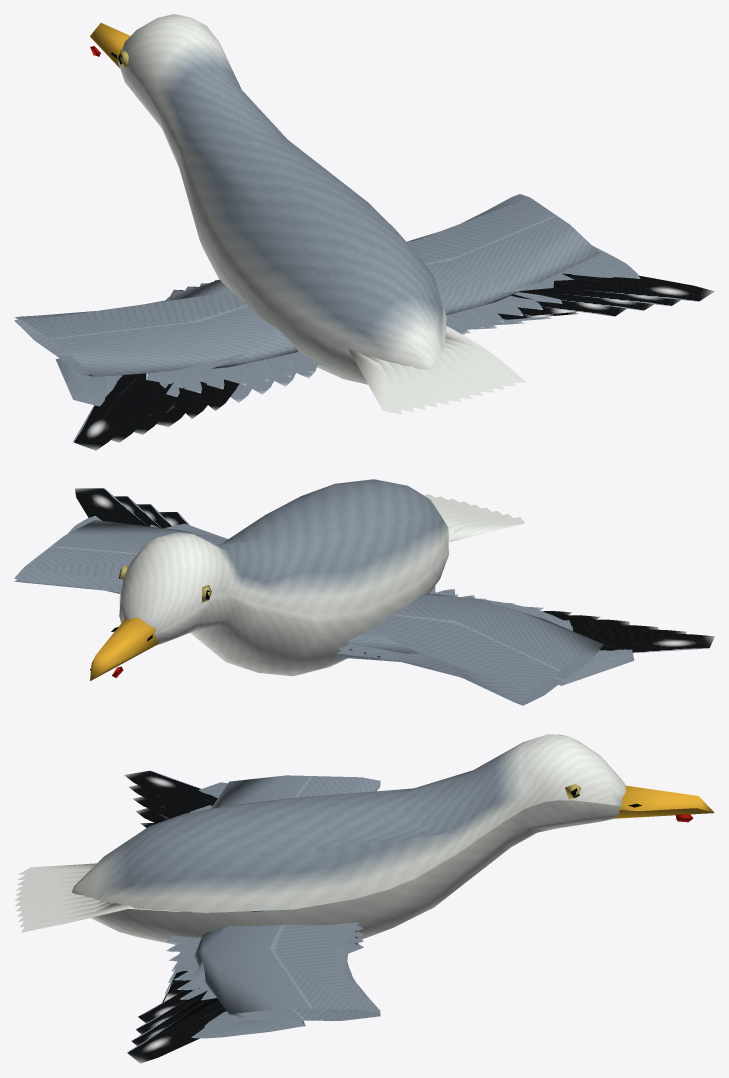
File: herring_gull_far.glb
3 renders of one model, top to bottom at view 1: azimuth 30°, elevation 25°; view 2: azimuth 150°, elevation 25°; view 3: azimuth 270°, elevation 25°, orthographic. The views are drawn at different scales.
Parts seen in each view (by area): view 1: CoastalGullMesh.001; view 2: CoastalGullMesh.001; view 3: CoastalGullMesh.001.
Boxes of the visible parts, x1,y1,x2,y2 form: CoastalGullMesh.001: [14, 14, 714, 450]; CoastalGullMesh.001: [14, 479, 714, 705]; CoastalGullMesh.001: [14, 734, 714, 1063].
Size of the model in its own units: 0.7291 by 0.2409 by 0.7383.
1 material, 1 textured.
